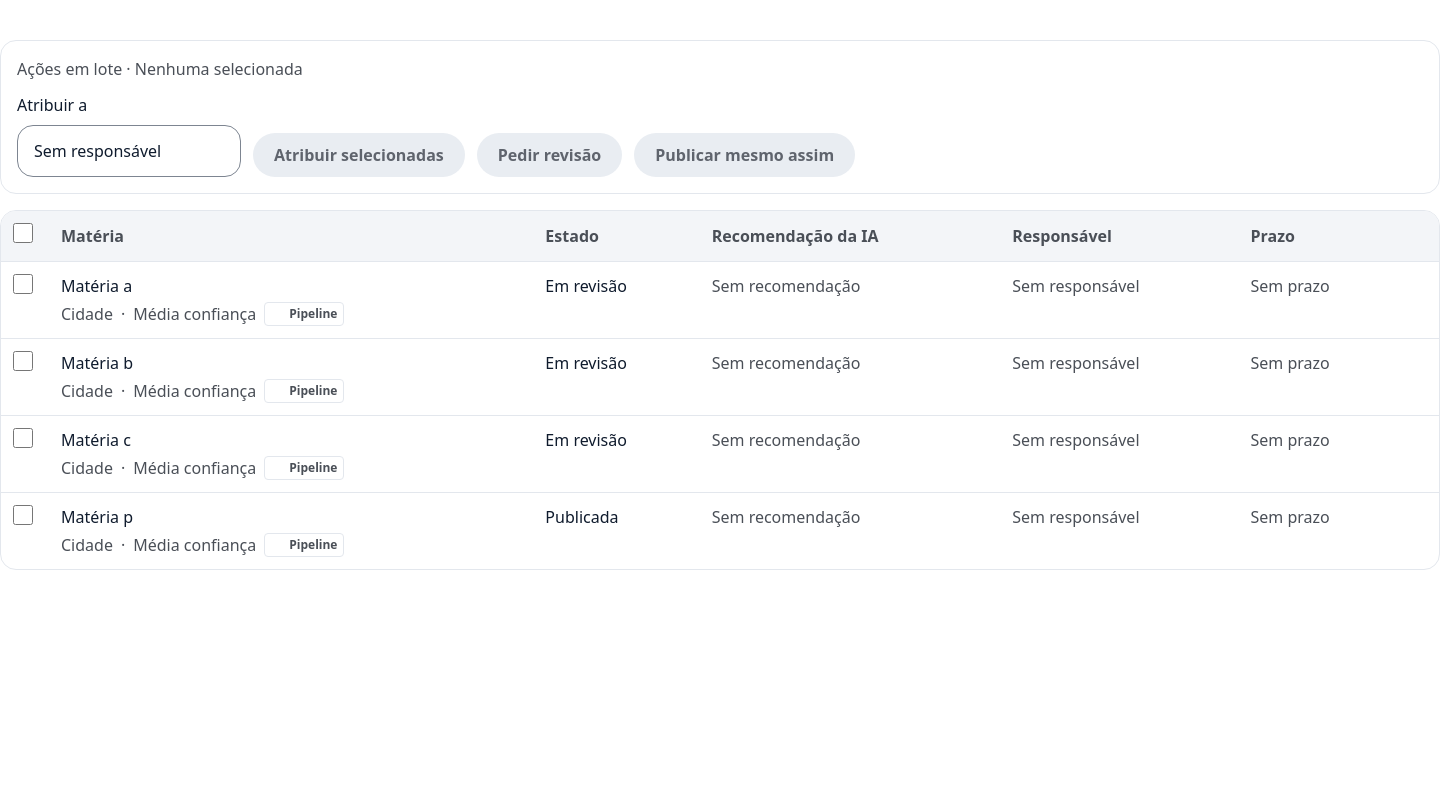
Test: fila de revisão · selecionar tudo › o cabeçalho marca as em revisão da página e oferece 'todas as N'
This screenshot has width=1440, height=810.
What coordinates should you click on to do the following:
click the checkbox named "Selecionar todas as matérias em revisão desta página"
I would click on:
 (23, 233)
Its box is [13,223,33,243].
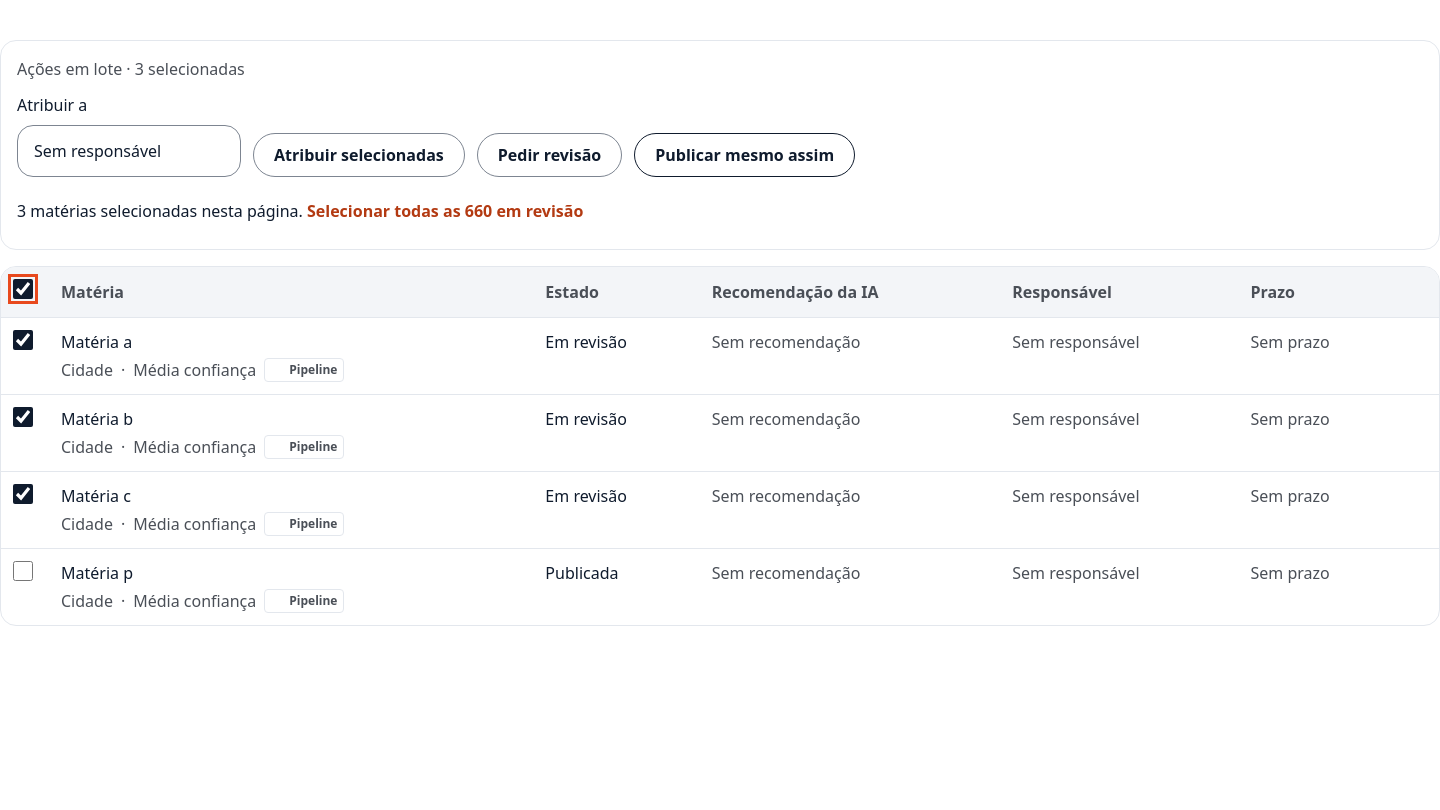
Expected: the checkbox named "Selecionar \"Matéria p\"" is not checked, [13,561,33,581]
Now the checkbox named "Selecionar \"Matéria a\"" is checked, box [13,330,33,350]
Now the text "3 matérias selecionadas nesta página. Selecionar todas as 660 em revisão" is shown, box [17,189,583,233]
What coordinates should you click on to do the following:
click the button "Selecionar todas as 660 em revisão"
I would click on:
 (445, 211)
Its box is [307,189,583,233].
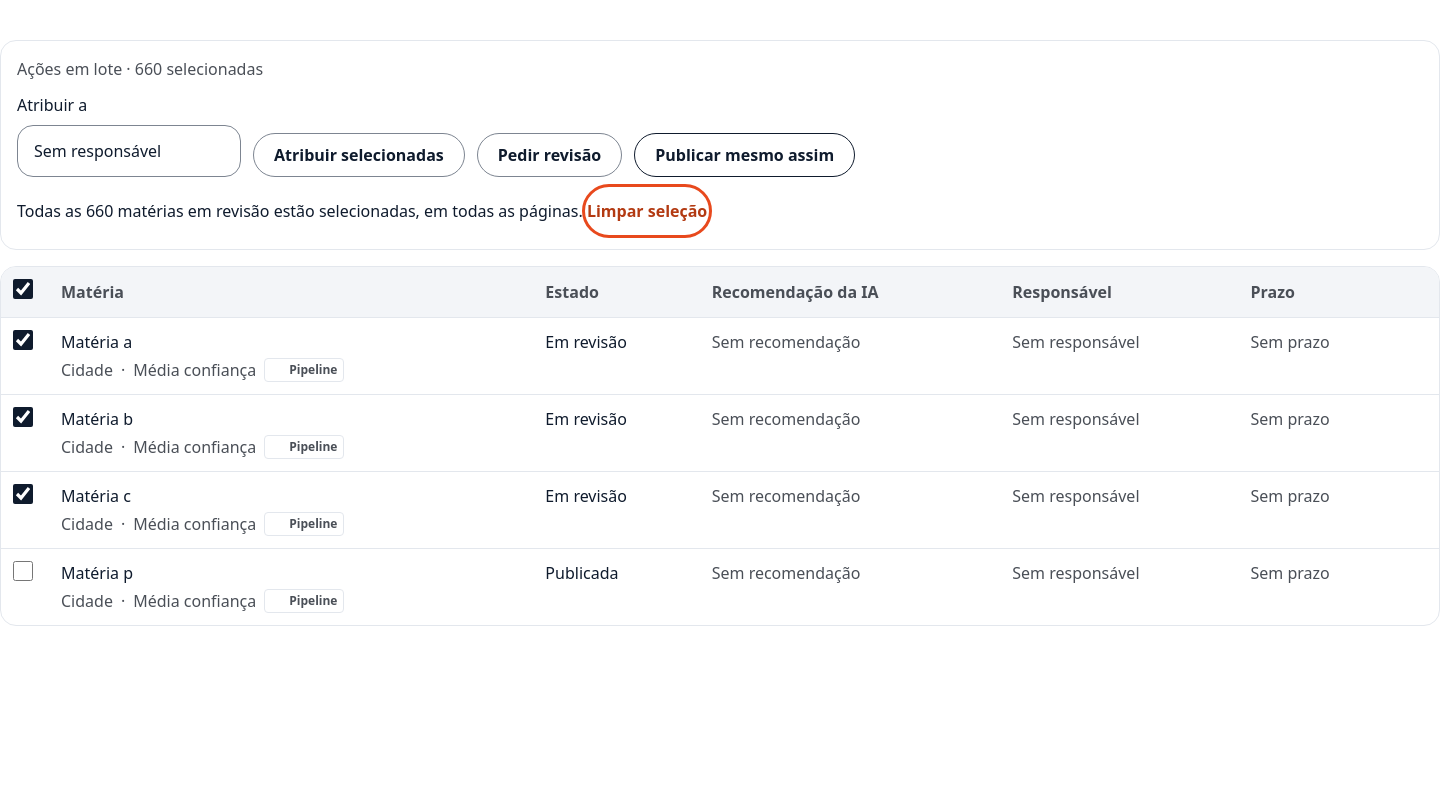
Now the text "Todas as 660 matérias em revisão estão selecionadas" is shown, box [17,200,583,222]
Now the text "Ações em lote · 660 selecionadas" is shown, box [17,58,263,80]
What coordinates should you click on to do the following:
click the button "Limpar seleção"
I would click on:
 (647, 211)
Its box is [587,189,707,233].
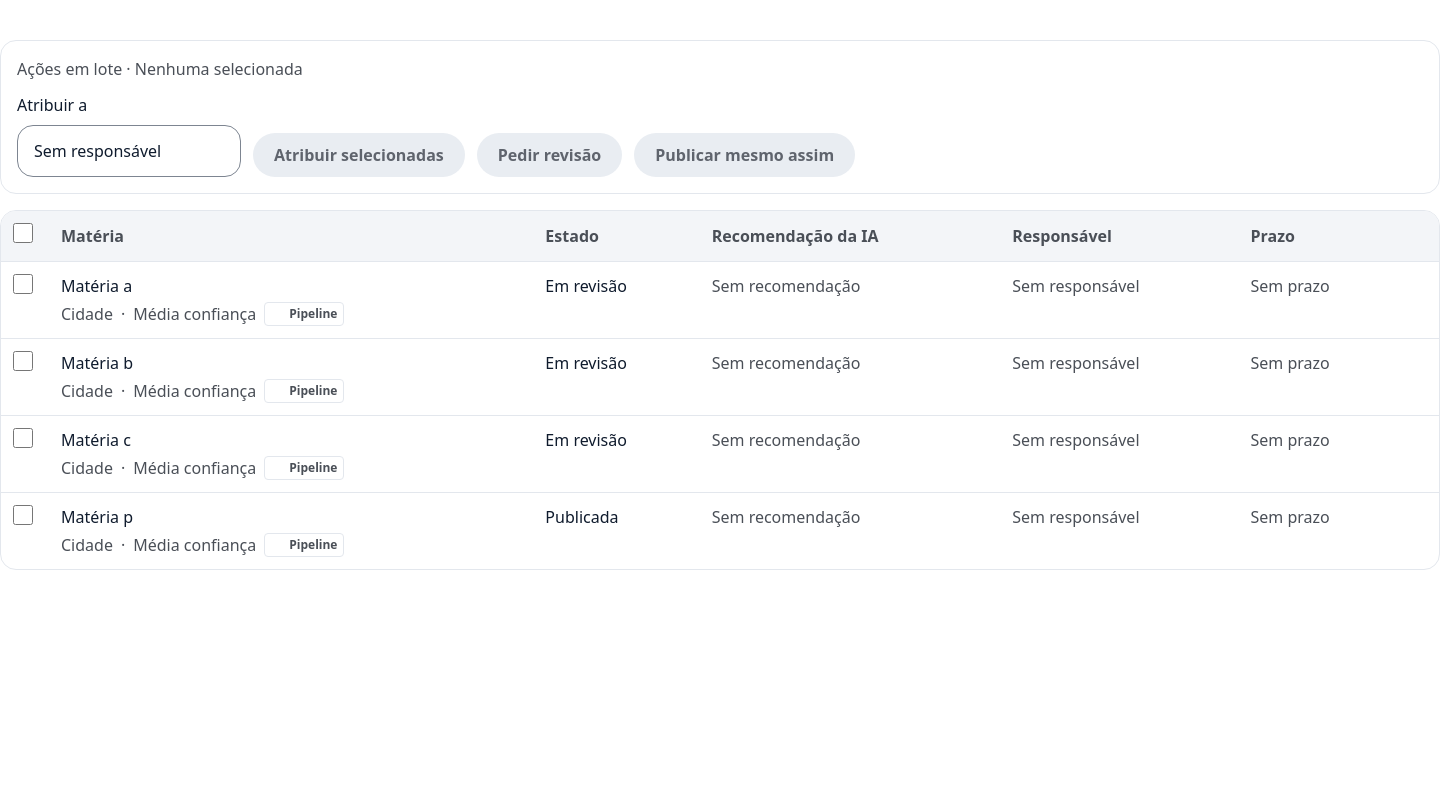
Now the checkbox named "Selecionar \"Matéria a\"" is not checked, box [13,274,33,294]
